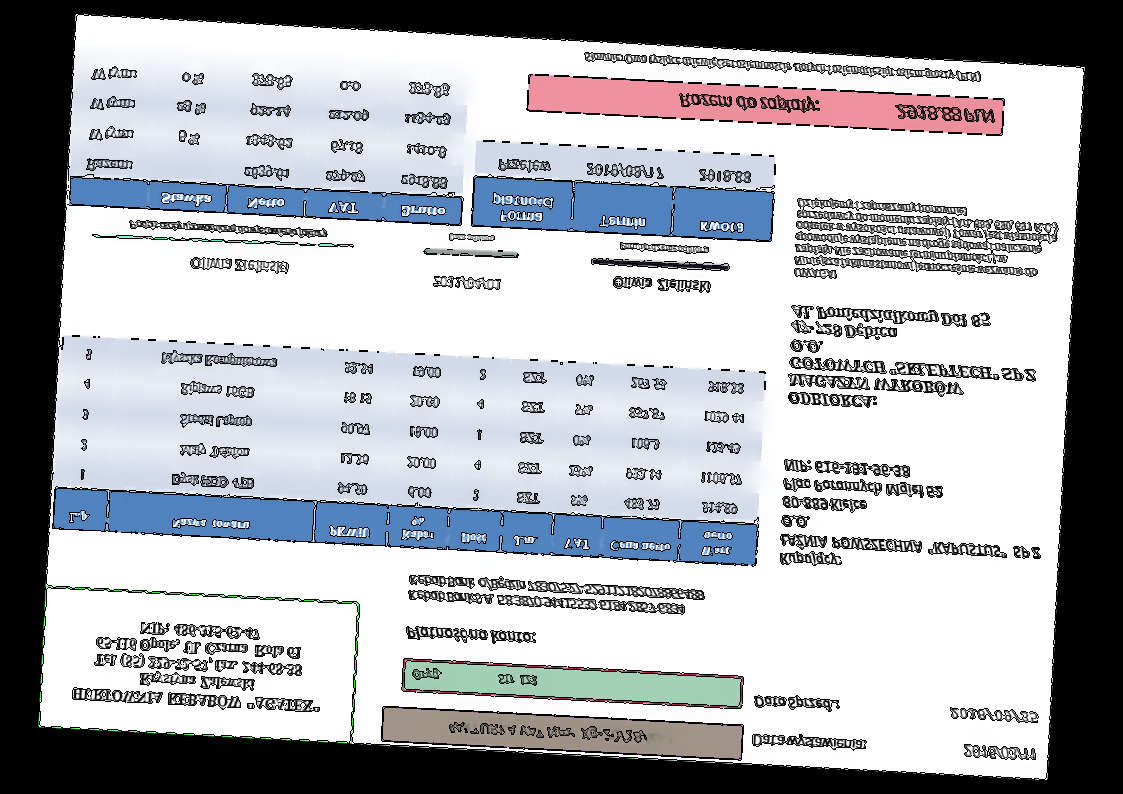Table: (50, 334, 768, 567), (67, 53, 470, 226), (470, 138, 777, 244)
TextBox: (776, 455, 1047, 581), (784, 300, 1041, 419), (67, 612, 327, 721), (792, 196, 1062, 295), (581, 47, 984, 88), (405, 572, 707, 620), (676, 89, 996, 129), (442, 718, 678, 748), (126, 216, 330, 242), (402, 622, 538, 648), (750, 728, 869, 756), (408, 666, 541, 691), (186, 254, 292, 278), (609, 274, 712, 296), (946, 703, 1040, 727), (752, 692, 842, 715), (616, 240, 711, 258), (961, 742, 1038, 764), (431, 272, 503, 293), (446, 232, 496, 245)
